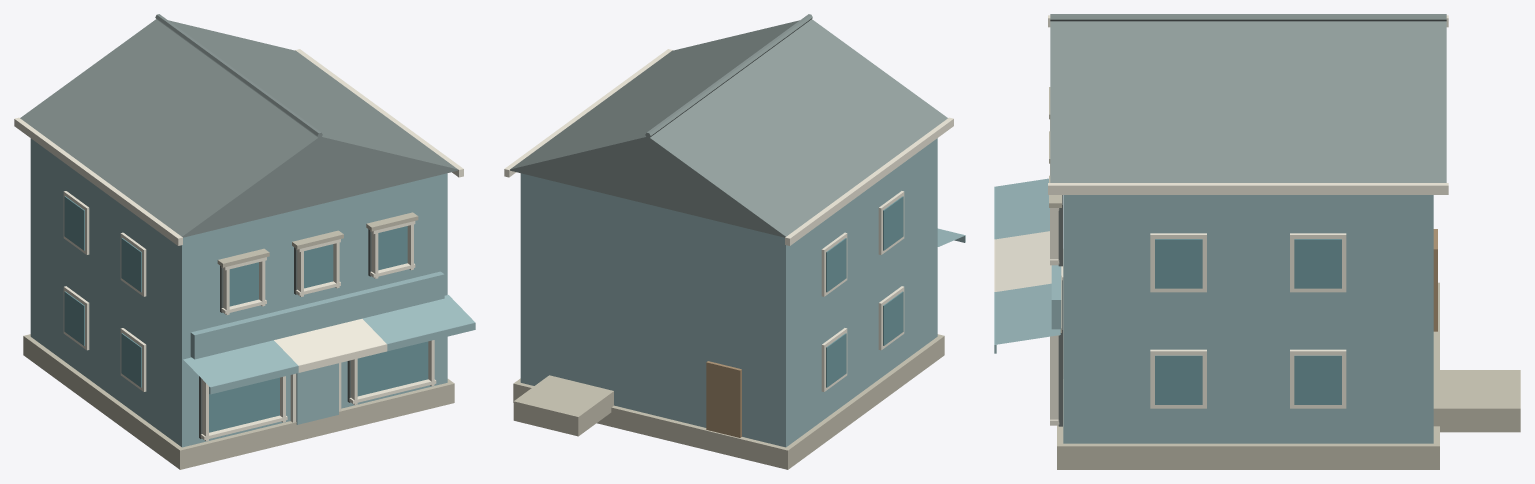
The picture shows the model from 3 angles, left to right: view 1: azimuth 30°, elevation 25°; view 2: azimuth 150°, elevation 25°; view 3: azimuth 270°, elevation 25°; orthographic projection. The views are drawn at different scales.
Bounding box in the file's own units: 9.26 × 9.46 × 12.09.
